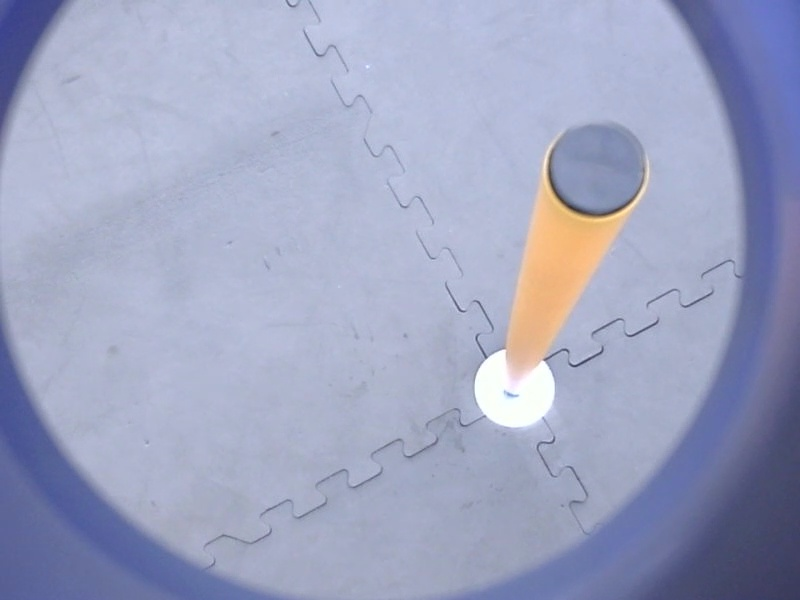tip: (539, 114, 655, 225)
